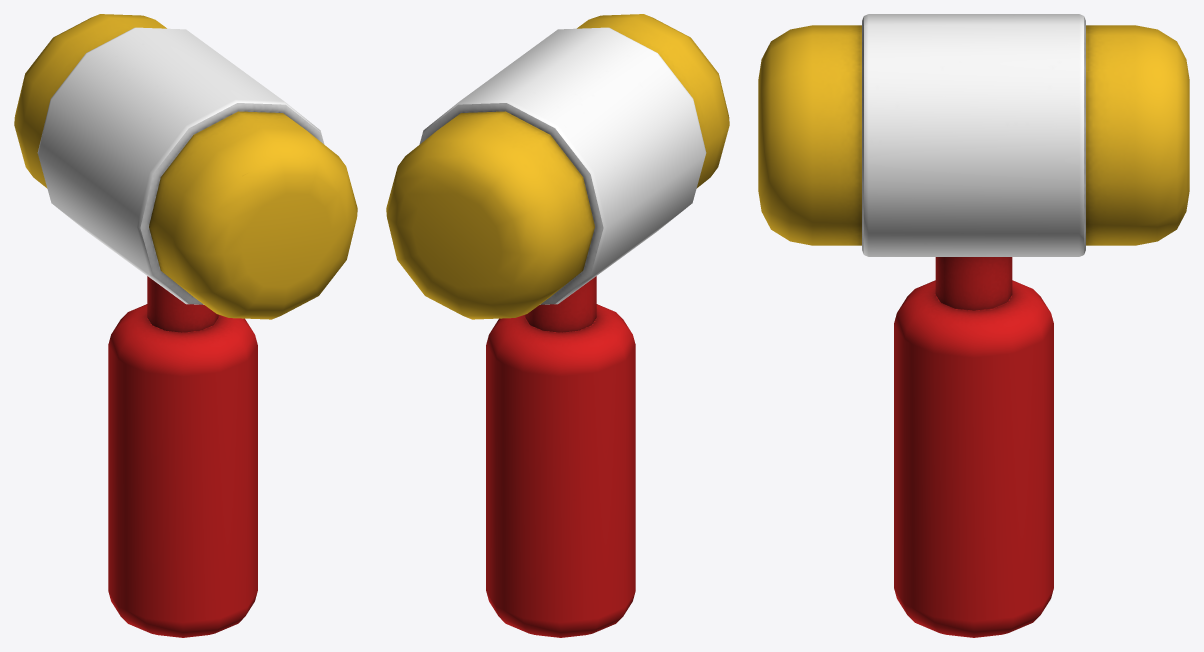
The model's file is Hammer.fbx.
3 views of the same model, side by side, from view 1: azimuth 30°, elevation 25°; view 2: azimuth 150°, elevation 25°; view 3: azimuth 270°, elevation 25° (orthographic). The views are drawn at different scales.
Visible parts, largest first — view 1: Hammer; view 2: Hammer; view 3: Hammer.
Part boxes in pixels (x1,y1,x2,y2): Hammer: (14, 14, 357, 637); Hammer: (386, 14, 729, 637); Hammer: (758, 14, 1189, 637).
Bounding box in the file's own units: 55.28 × 148 × 97.78.
1 material, 1 textured.
